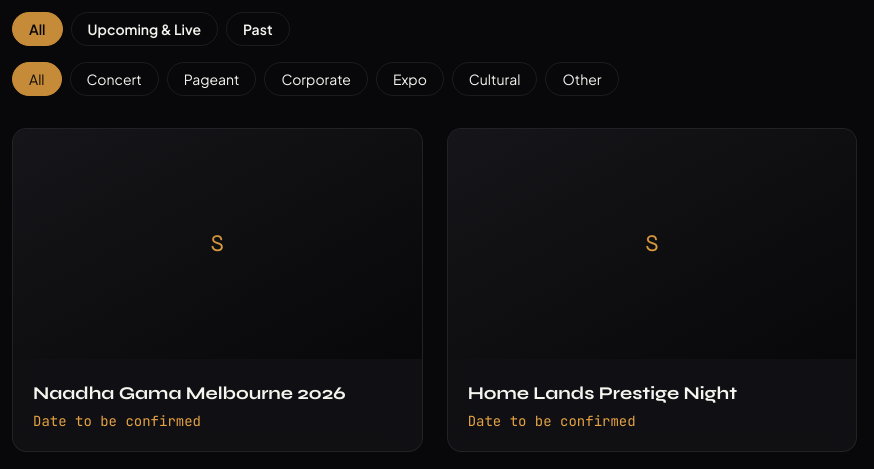
Scenario: EventsExplorer › shows every event by default and filters when a category button is clicked
Expected: the heading "Naadha Gama Melbourne 2026" is shown, x1=33 y1=382 x2=346 y2=404
Expected: the heading "Home Lands Prestige Night" is shown, x1=468 y1=382 x2=737 y2=404
Click the button "Concert".
click(114, 79)  # box x1=70 y1=62 x2=159 y2=96
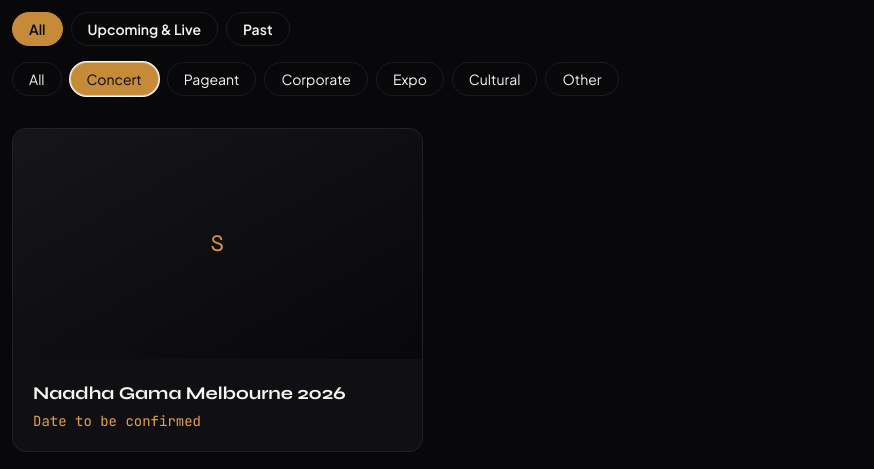
Expected: the heading "Naadha Gama Melbourne 2026" is shown, x1=33 y1=382 x2=346 y2=404
Now the link "Home Lands Prestige Night" is gone
